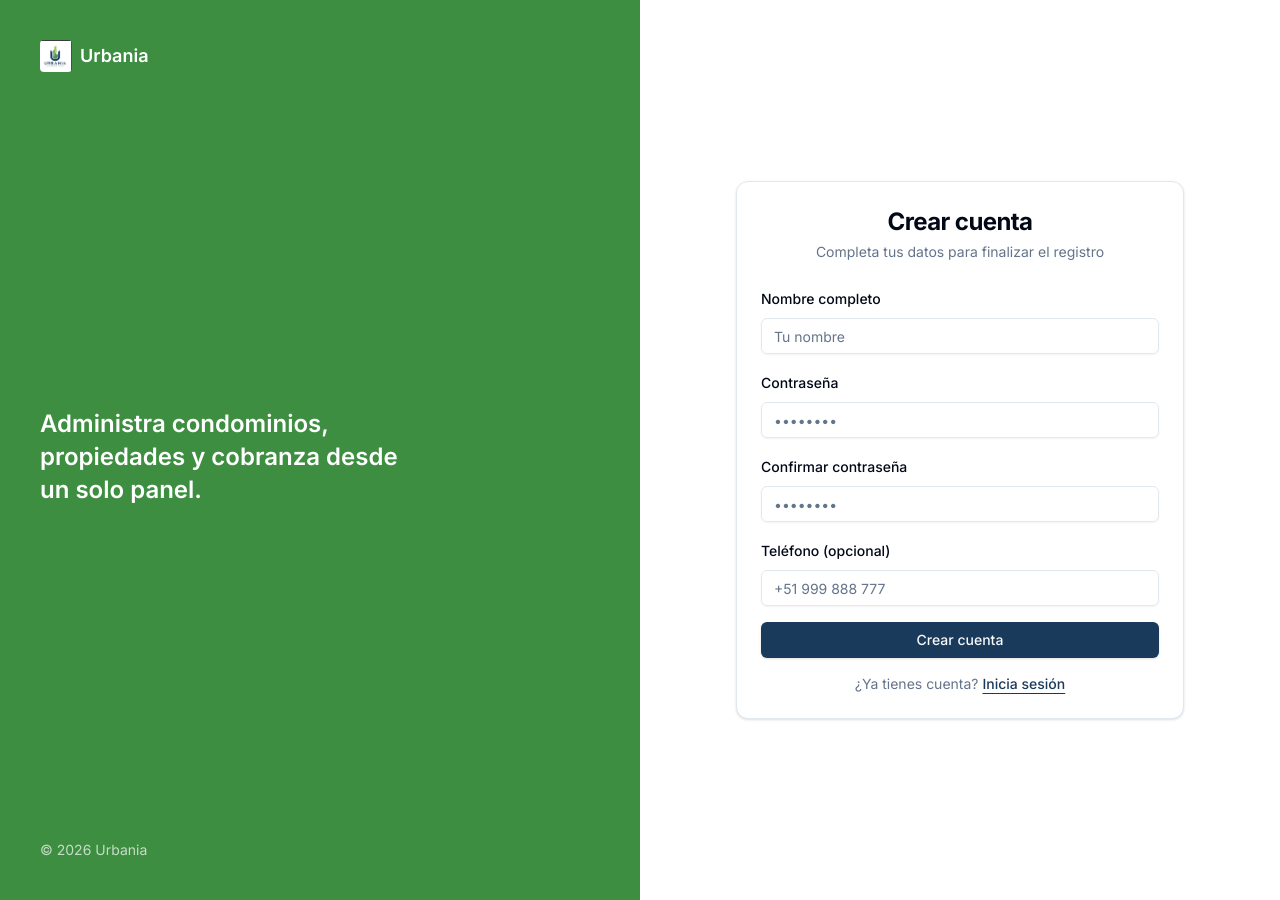
it: RegisterPage — validación de formulario › CA4 — validación de contraseñas › valida complejidad de contraseña: mínimo 8 caracteres, 1 mayúscula, 1 minúscula, 1 número
The width and height of the screenshot is (1280, 900).
Type "Juan Pérez" into the field labelled "Nombre completo". click: {"x": 960, "y": 336}
box: [761,318,1159,354]
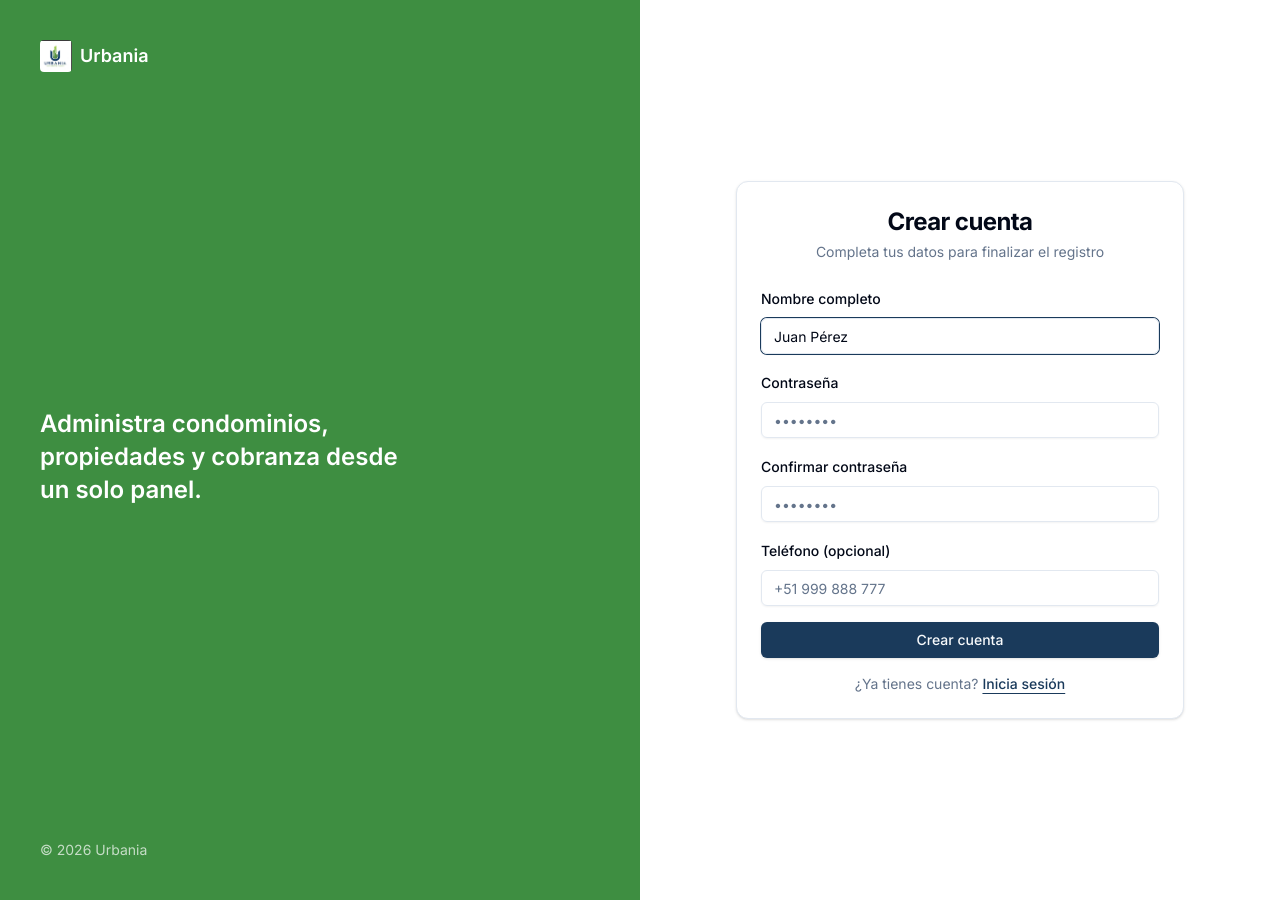
// Contraseña sin mayúscula
Type "password1" into the password field labelled "Contraseña". click: {"x": 960, "y": 420}
box: [761,402,1159,438]
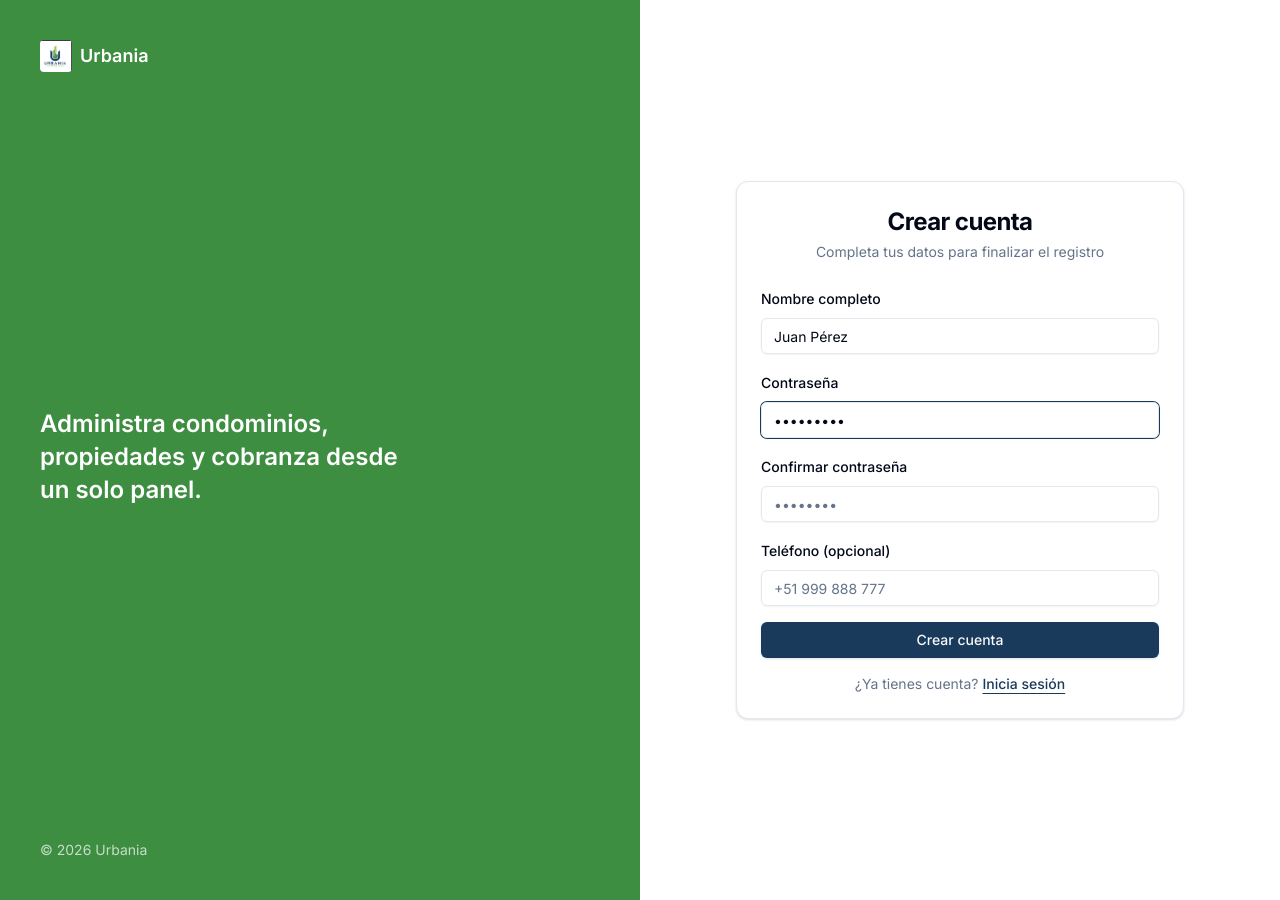
Click the button "Crear cuenta". click: {"x": 960, "y": 640}
box: [761,622,1159,658]
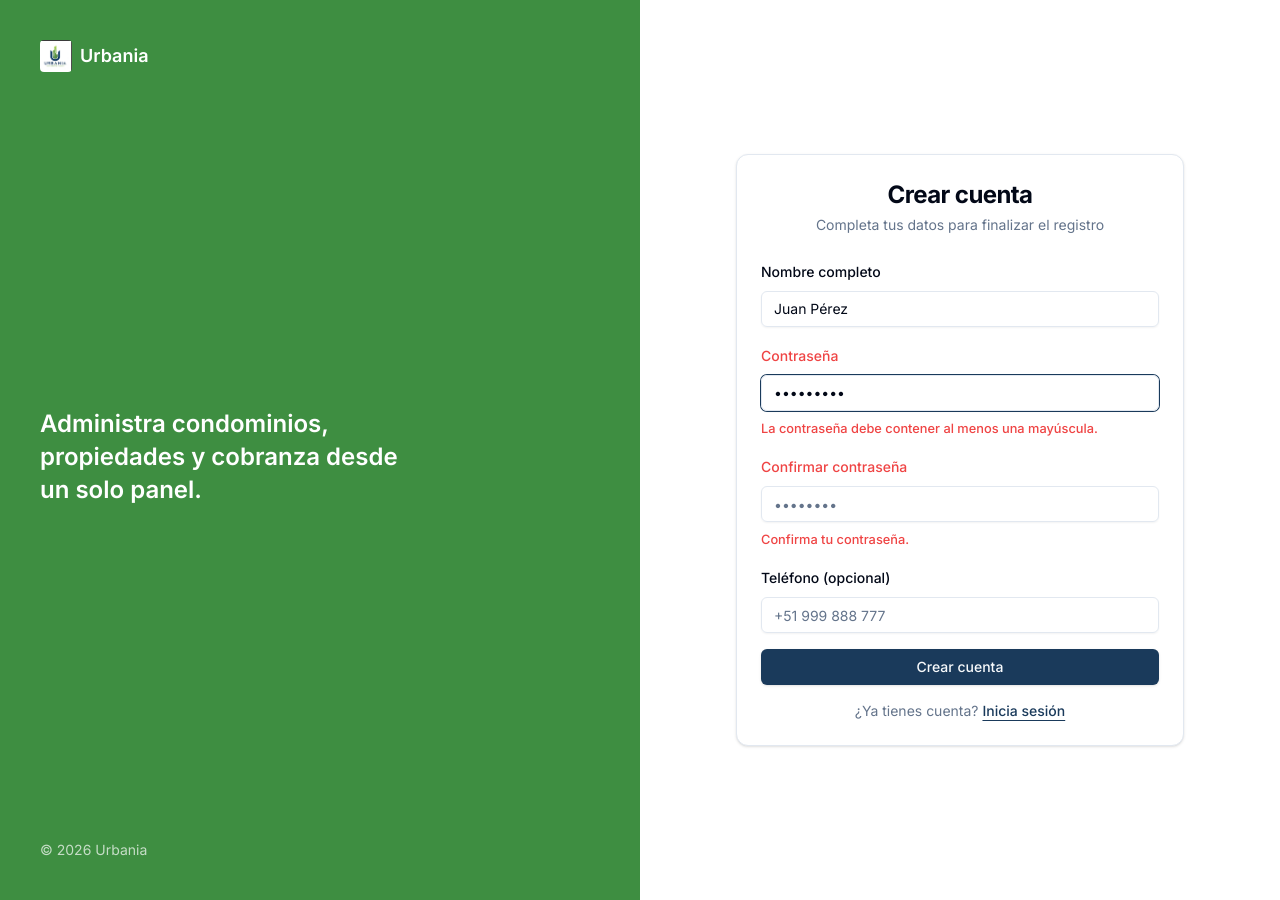
Now the text "La contraseña debe contener al menos una mayúscula." is shown, box [761,421,1098,436]
